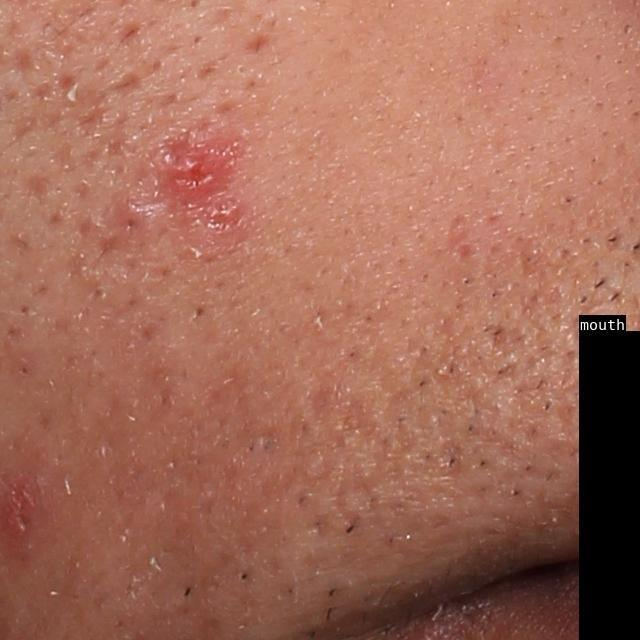atrophic_scar: (15, 71, 143, 142)
papule: (162, 138, 231, 209), (110, 194, 166, 244)
